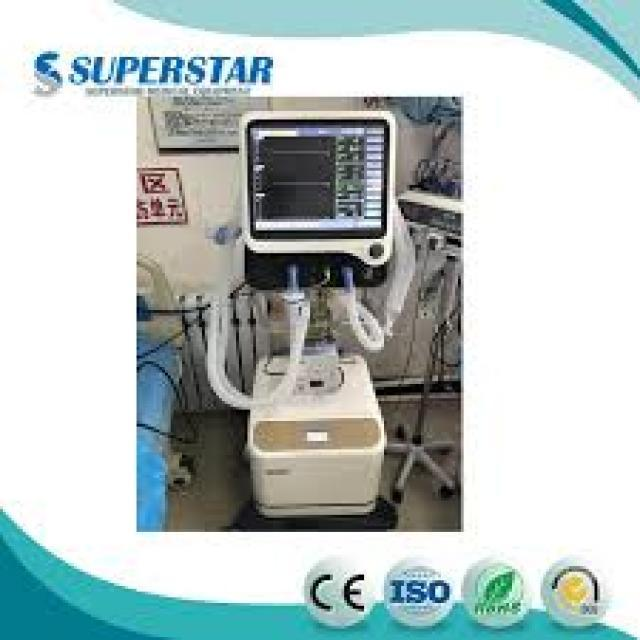ventilator: (207, 106, 412, 523)
